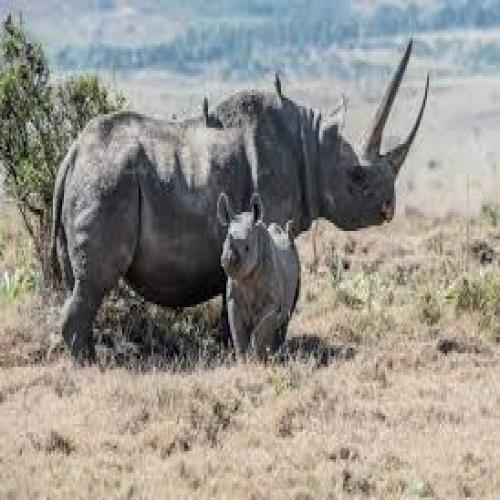rhino-endangered: (50, 38, 430, 360), (216, 187, 302, 356)
